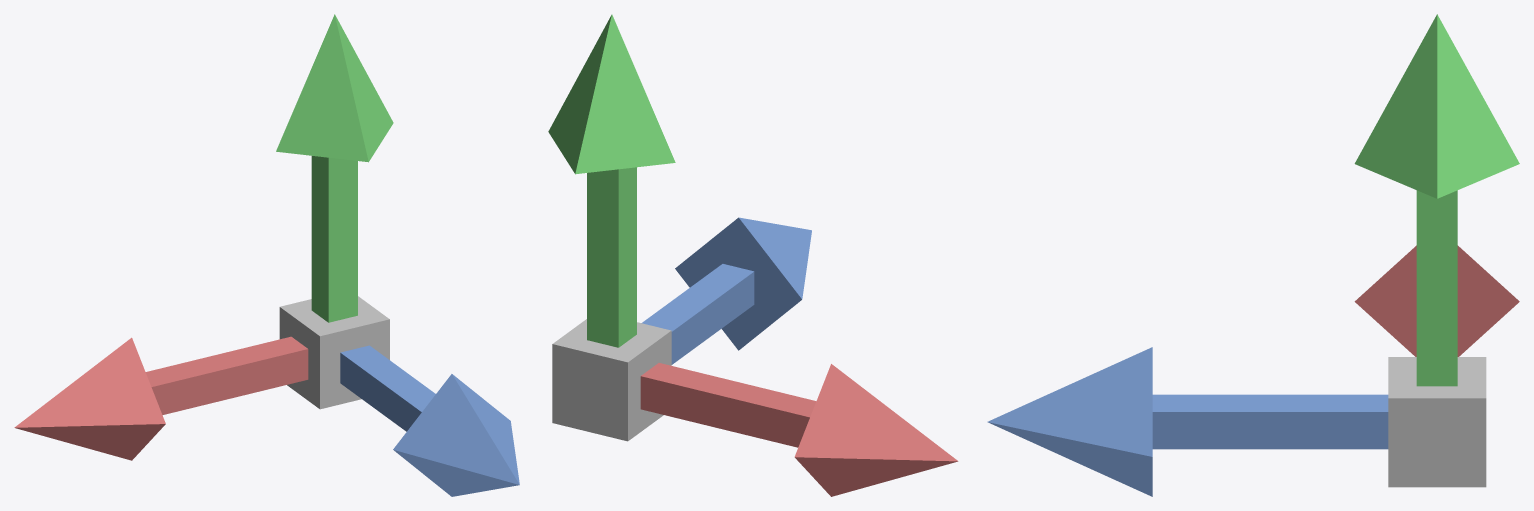
File: Gizmo_Move.fbx
3 views of the same model, side by side, from view 1: azimuth 30°, elevation 25°; view 2: azimuth 150°, elevation 25°; view 3: azimuth 270°, elevation 25° (orthographic). The views are drawn at different scales.
Parts seen in each view (by area): view 1: MoveGizmo_Y, MoveGizmo_X, MoveGizmo_Z, MoveGizmo; view 2: MoveGizmo_Y, MoveGizmo_X, MoveGizmo_Z, MoveGizmo; view 3: MoveGizmo_Z, MoveGizmo_Y, MoveGizmo, MoveGizmo_X.
Part boxes in pixels (bbox=[...]): MoveGizmo_Y: bbox=[276, 14, 393, 322]; MoveGizmo_X: bbox=[14, 336, 308, 460]; MoveGizmo_Z: bbox=[340, 345, 519, 496]; MoveGizmo: bbox=[279, 296, 389, 409]; MoveGizmo_Y: bbox=[548, 14, 675, 347]; MoveGizmo_X: bbox=[640, 363, 958, 496]; MoveGizmo_Z: bbox=[641, 217, 811, 364]; MoveGizmo: bbox=[552, 319, 671, 441]; MoveGizmo_Z: bbox=[987, 347, 1388, 496]; MoveGizmo_Y: bbox=[1354, 14, 1519, 386]; MoveGizmo: bbox=[1388, 357, 1486, 487]; MoveGizmo_X: bbox=[1354, 245, 1519, 356].
Size of the model in its own units: 467 by 467 by 467.
